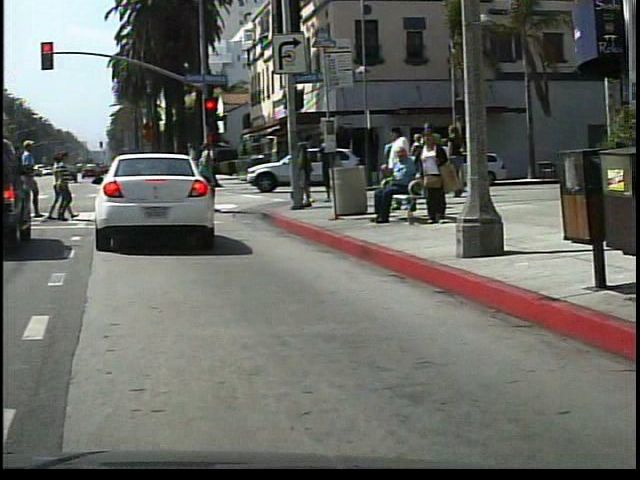person: (372, 148, 424, 227), (418, 128, 455, 226), (186, 135, 226, 220)
